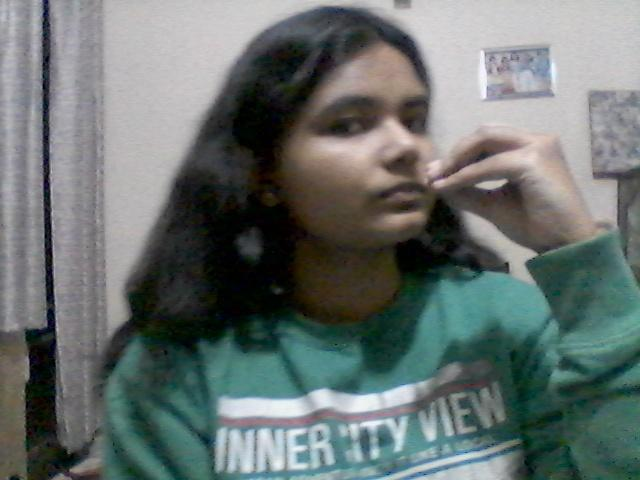eat: (410, 111, 629, 288)
